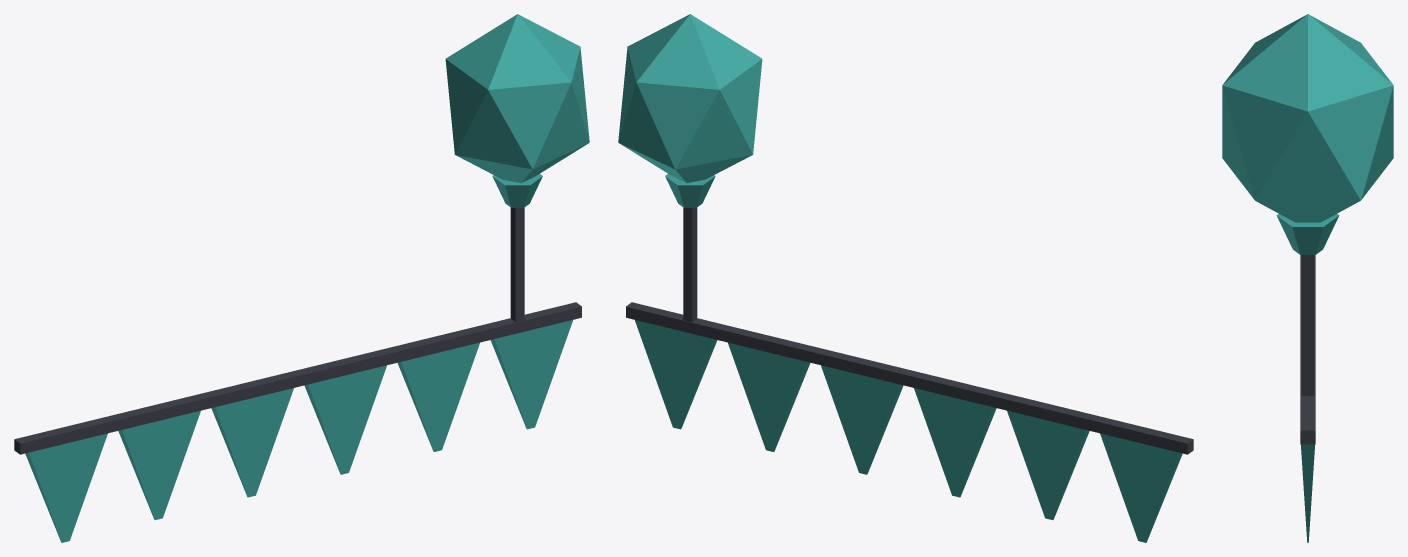
The model's file is poster_m0_1.glb.
3 renders of one model, left to right at view 1: azimuth 30°, elevation 25°; view 2: azimuth 150°, elevation 25°; view 3: azimuth 270°, elevation 25°, orthographic. The views are drawn at different scales.
Visible parts, largest first — view 1: poster_m0_1_mesh; view 2: poster_m0_1_mesh; view 3: poster_m0_1_mesh.
Boxes of the visible parts, box(x1,y1,x2,y2) form: poster_m0_1_mesh: box(14, 14, 589, 542); poster_m0_1_mesh: box(618, 14, 1193, 542); poster_m0_1_mesh: box(1222, 14, 1393, 542).
Bounding box in the file's own units: 0.6416 × 0.4544 × 0.1361.
